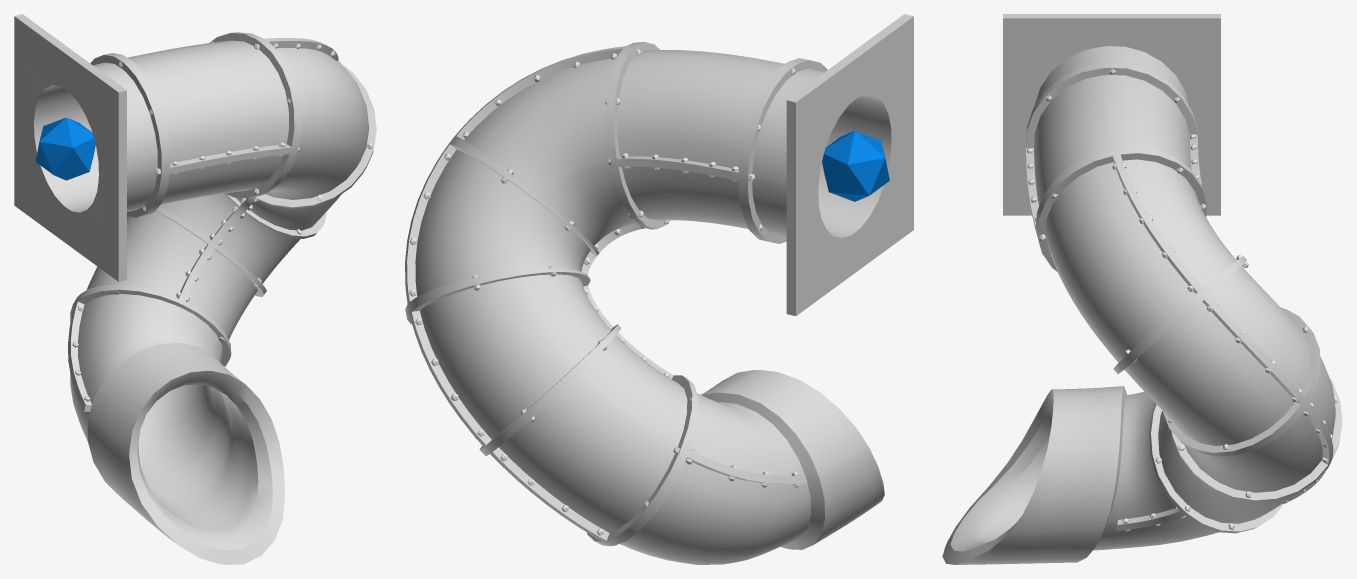
Rendered from Turbo twister slider 5' R.glb.
3 renders of one model, left to right at view 1: azimuth 30°, elevation 25°; view 2: azimuth 150°, elevation 25°; view 3: azimuth 270°, elevation 25°, orthographic. The views are drawn at different scales.
Visible parts, largest first — view 1: Turbo Twister Slider.001, Joint.050, Side winder slide.006; view 2: Turbo Twister Slider.001, Joint.050, Side winder slide.006; view 3: Turbo Twister Slider.001, Side winder slide.006.
Part boxes in pixels (x1,y1,x2,y2): Turbo Twister Slider.001: [14, 14, 376, 564]; Joint.050: [35, 117, 95, 180]; Side winder slide.006: [72, 42, 372, 401]; Turbo Twister Slider.001: [405, 14, 913, 564]; Joint.050: [822, 131, 889, 201]; Side winder slide.006: [409, 49, 799, 535]; Turbo Twister Slider.001: [942, 14, 1342, 564]; Side winder slide.006: [1027, 69, 1338, 531].
Bounding box in the file's own units: 1.81 × 2.29 × 1.68.
